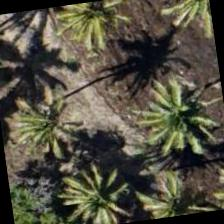Kelapa_Sawit: (125, 67, 223, 170), (0, 74, 96, 176), (60, 140, 162, 223), (124, 152, 222, 221), (53, 0, 151, 60), (148, 0, 216, 56)
